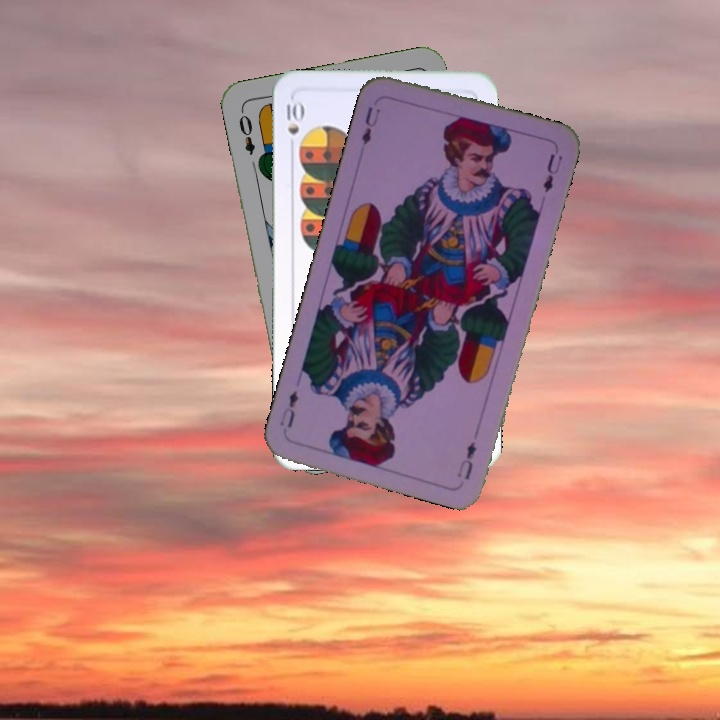EO: (234, 106, 258, 158)
EU: (453, 438, 479, 483), (357, 102, 379, 148)
S10: (283, 98, 304, 154)
